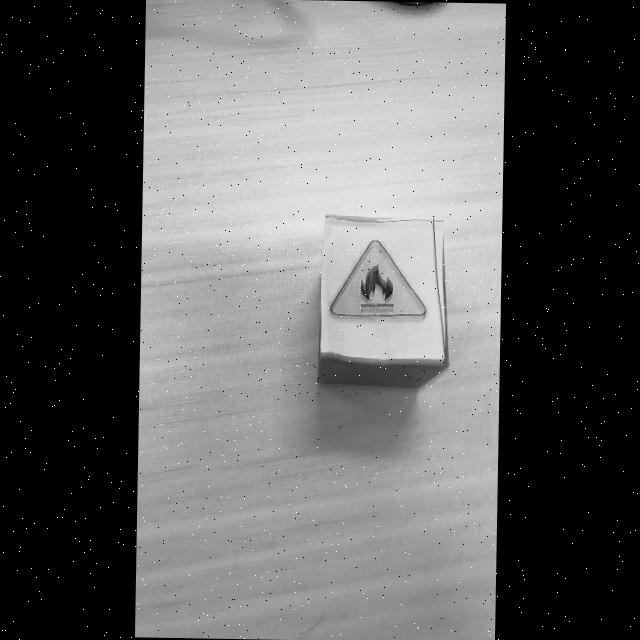Fire: (329, 239, 426, 320)
